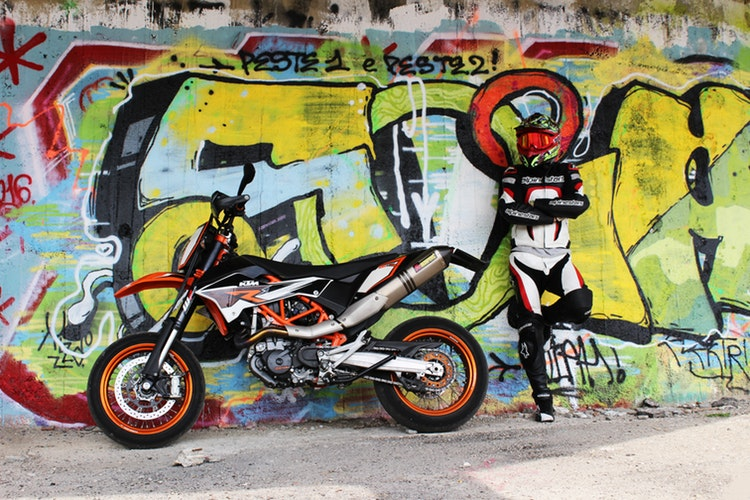helmet: (507, 109, 565, 166)
